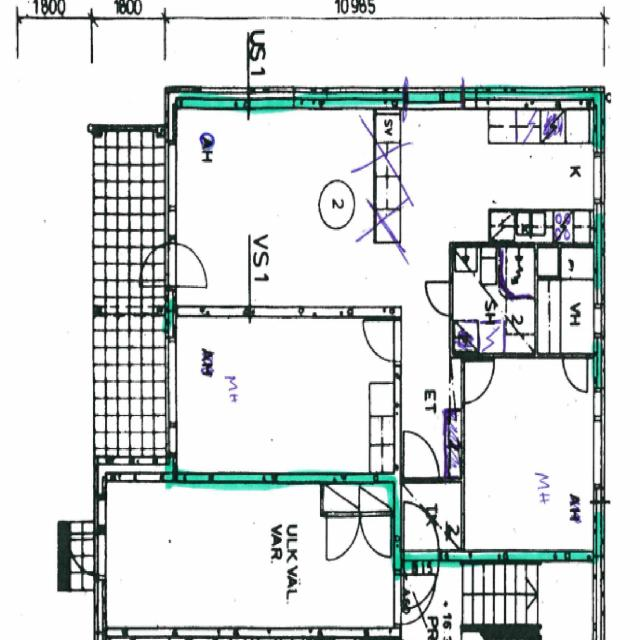door: (404, 503, 438, 562), (404, 550, 438, 609), (404, 428, 439, 482), (134, 244, 178, 286), (165, 244, 208, 286), (365, 321, 401, 360), (461, 362, 495, 402), (563, 352, 587, 391), (426, 282, 454, 314)
